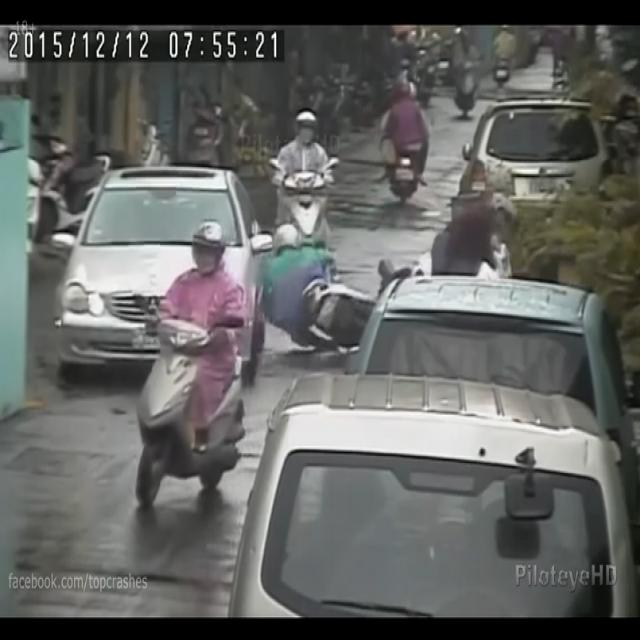accident: (250, 215, 392, 353), (287, 276, 389, 358)
